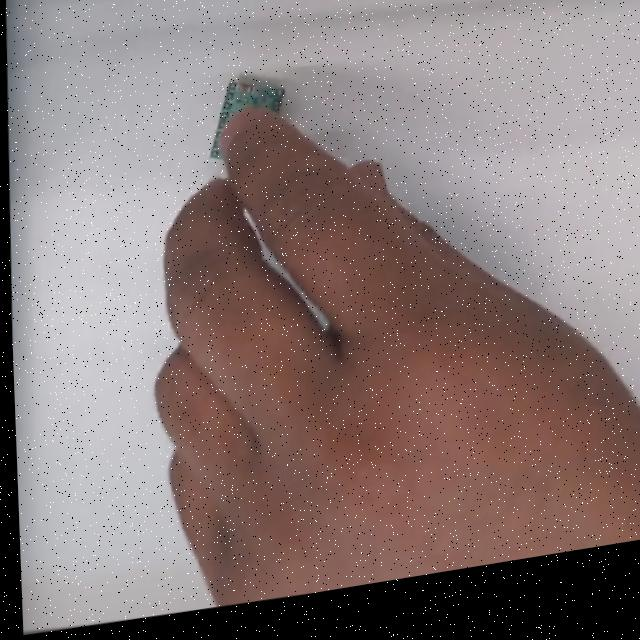Chip: (203, 71, 287, 169)
